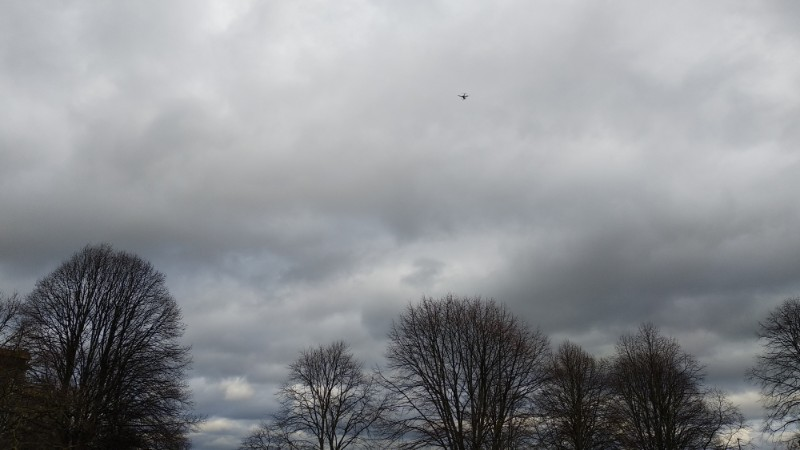drone: (458, 92, 470, 100)
